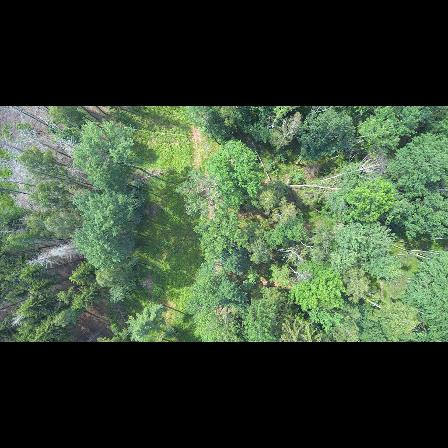Dead: (23, 134, 76, 160), (7, 106, 55, 130), (353, 152, 383, 181), (0, 140, 42, 158), (276, 244, 309, 266), (2, 157, 38, 174), (2, 175, 39, 190), (27, 254, 66, 267), (49, 243, 82, 257), (11, 312, 26, 329)
